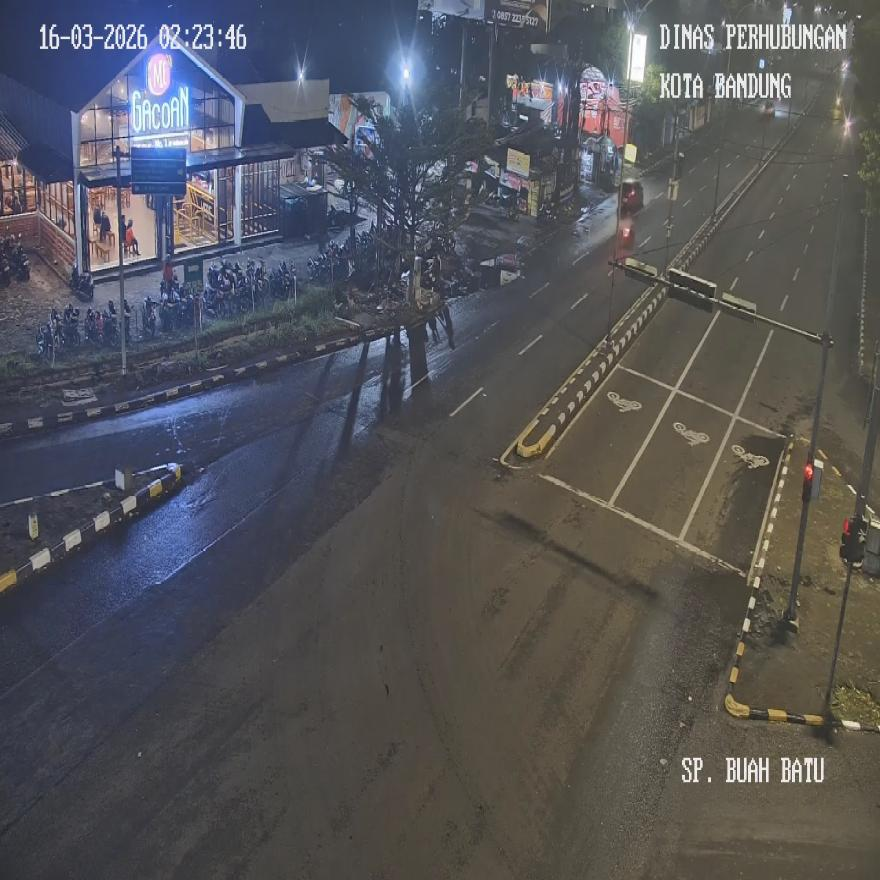Motor: (71, 264, 93, 301), (36, 321, 54, 363), (141, 294, 157, 339), (85, 308, 103, 346)
